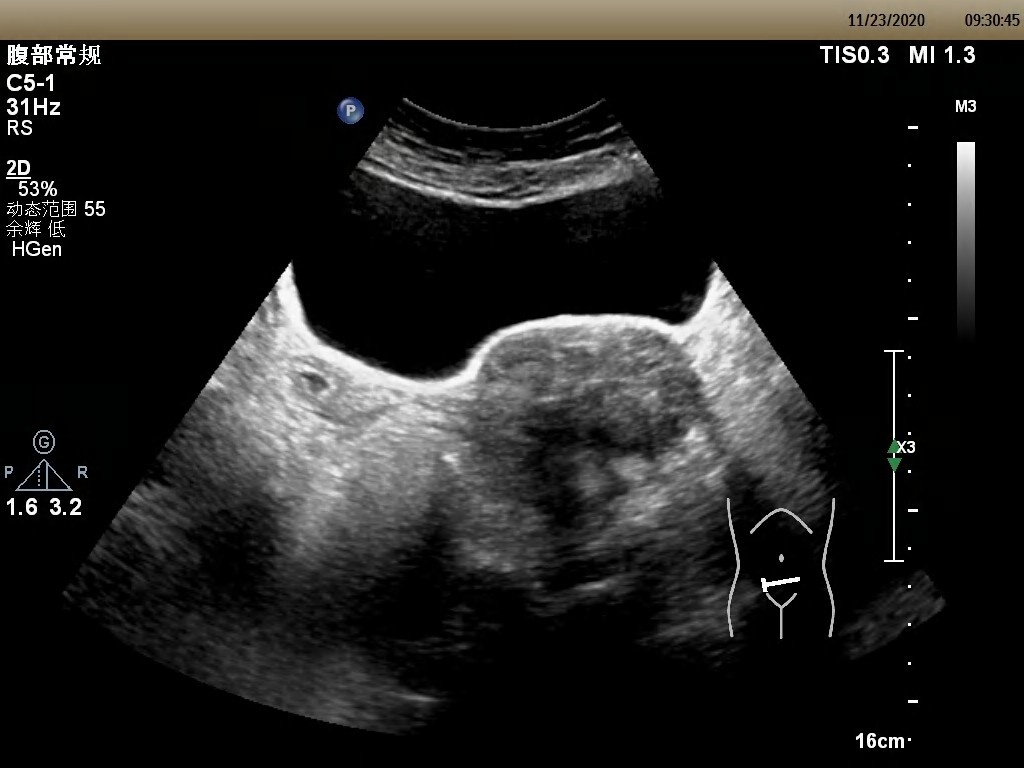肌瘤: (457, 326, 702, 513)
